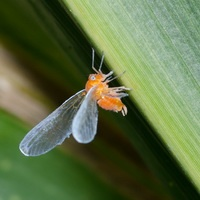insect: (19, 48, 129, 155)
